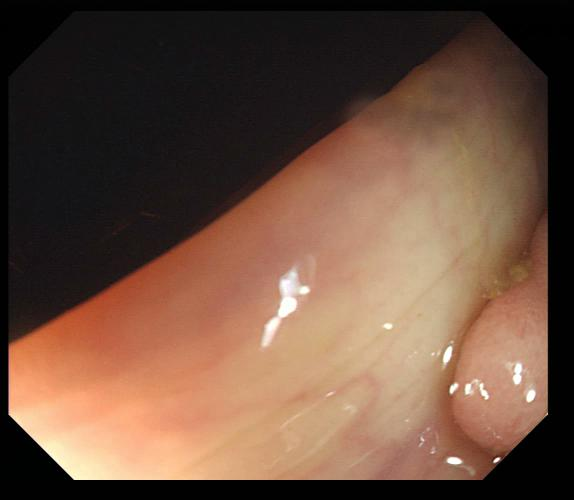polyp: (454, 215, 547, 456)
